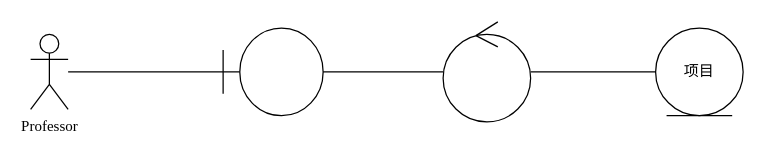
Some shapes in this 765 by 158 pixel diagram are drawn without their labels. Here are the shapes that lost their labels. From the top down, the centre of each, then its label:
[272,71]: 教授控制页
[486,71]: 发布项目
